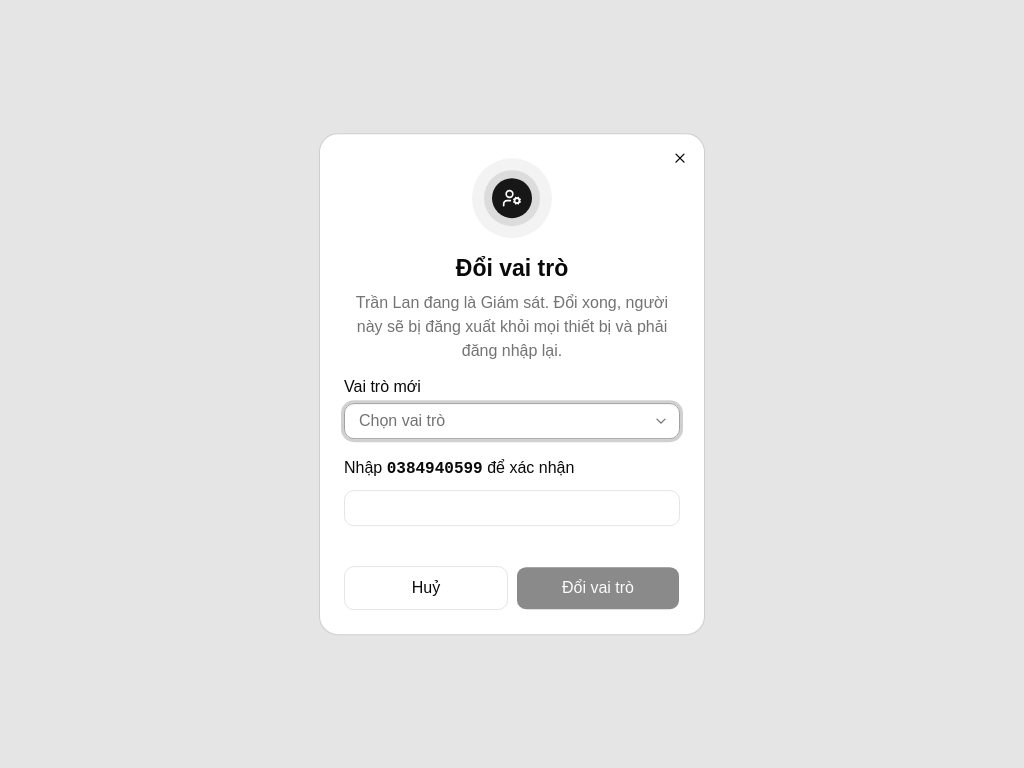
it: ChangeUserRoleDialog › hợp lệ → hỏi "Đổi vai trò của … từ … sang …?" (tên vai trò đã dịch), chưa gửi request
Step 1. Click the dropdown named "Vai trò mới" → (402, 420), box [344,403,680,439]
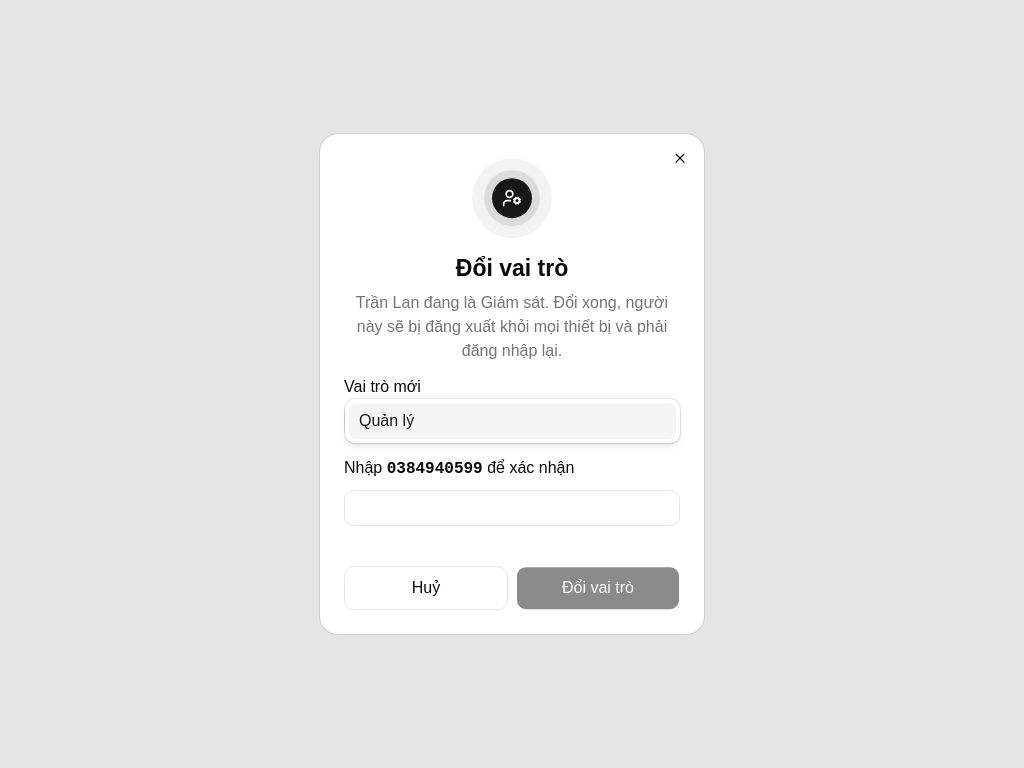
Step 2. Click the option "Quản lý" → (387, 420), box [349,403,676,439]
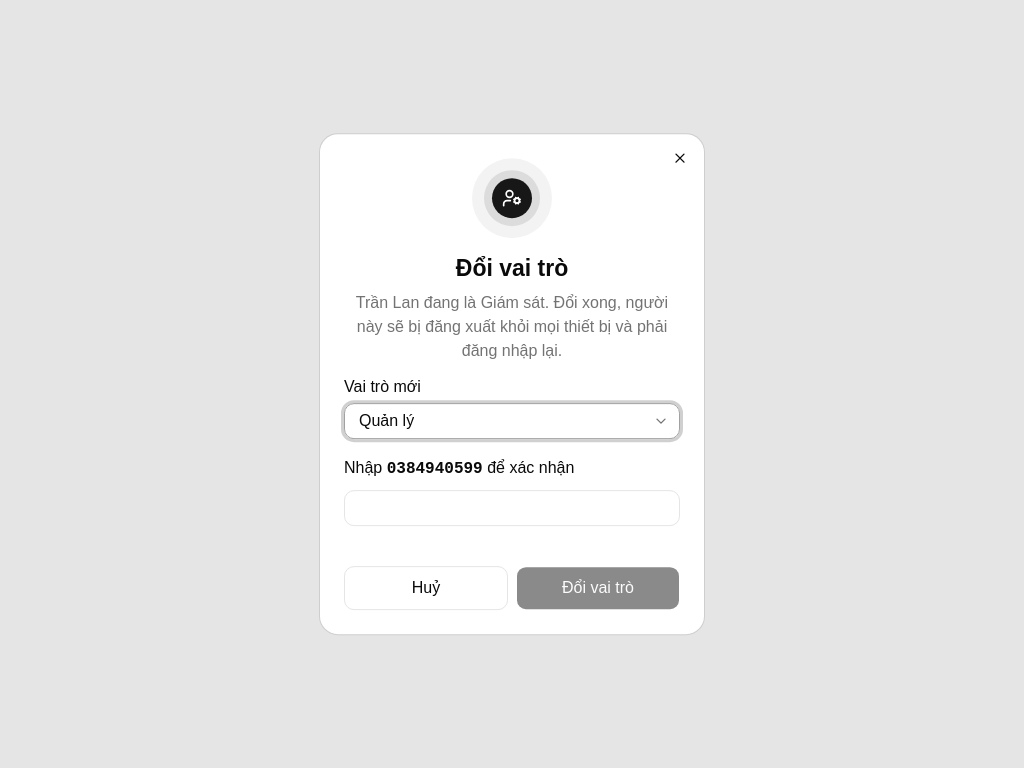
Step 3. Type "0384940599" into the field labelled "Nhập 0384940599 để xác nhận" → (512, 508), box [344,490,680,526]
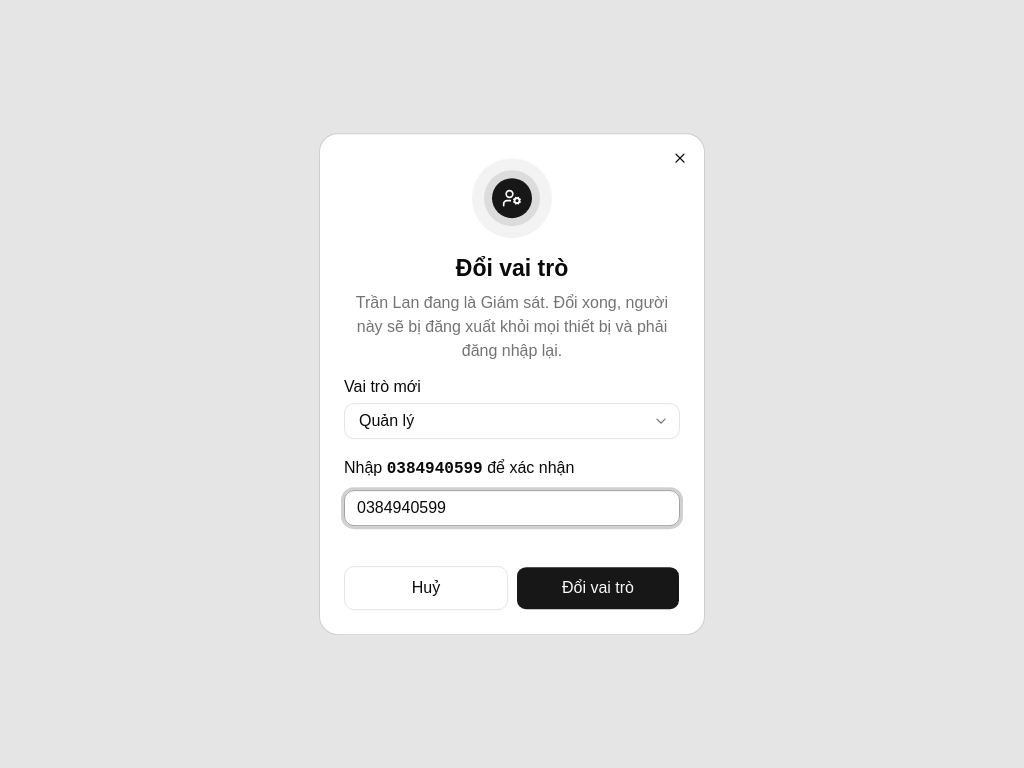
Step 4. Click the button "Đổi vai trò" → (598, 588), box [516,566,680,610]
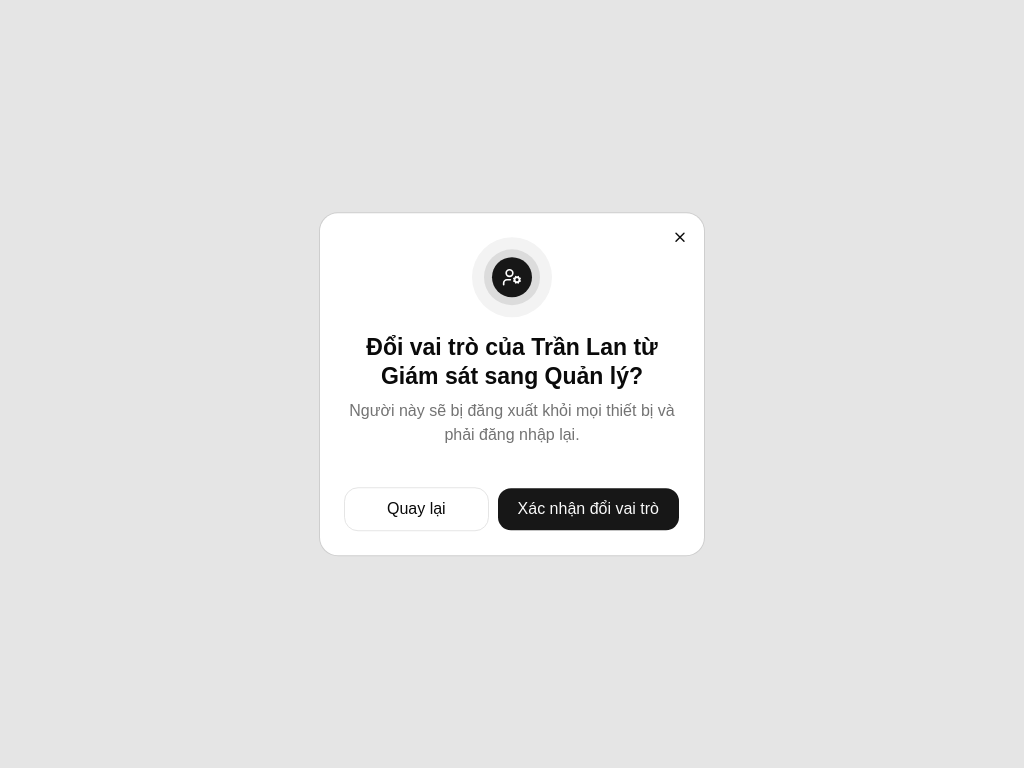
Check: the dialog "Đổi vai trò của Trần Lan từ Giám sát sang Quản lý?" is shown, box [320,213,704,555]
